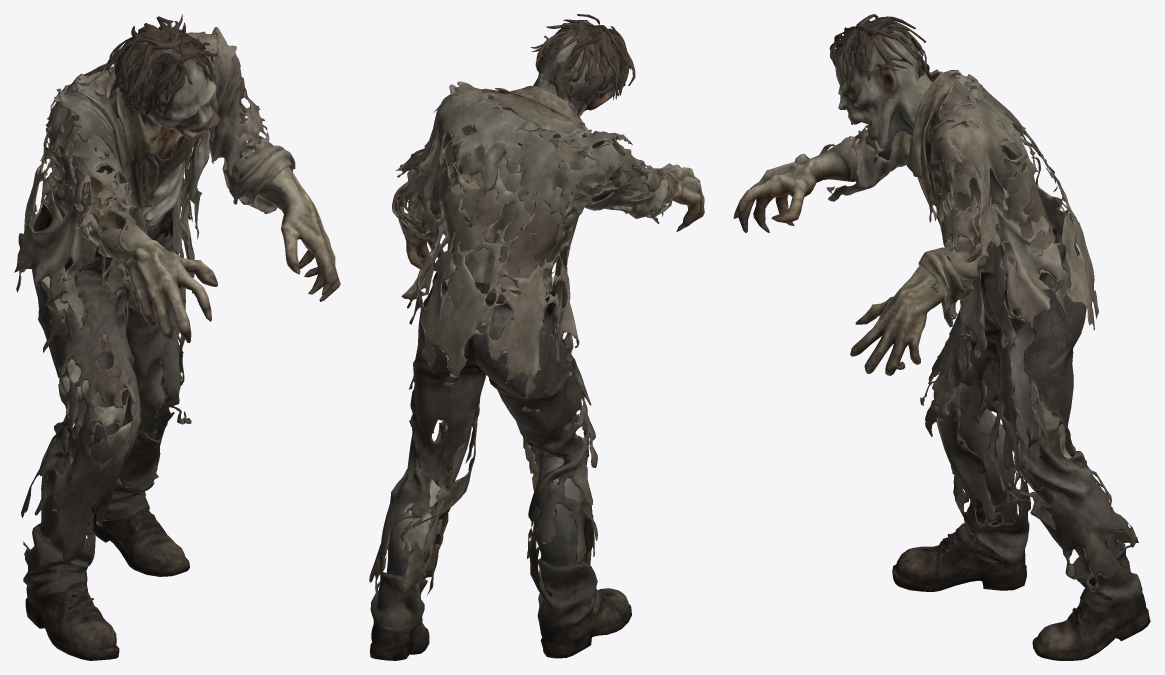
File: зомби.glb
3 renders of one model, left to right at view 1: azimuth 30°, elevation 25°; view 2: azimuth 150°, elevation 25°; view 3: azimuth 270°, elevation 25°, orthographic. The views are drawn at different scales.
Visible parts, largest first — view 1: geometry_0; view 2: geometry_0; view 3: geometry_0.
Part boxes in pixels (x1=…): geometry_0: x1=14, y1=14, x2=340, y2=660; geometry_0: x1=369, y1=14, x2=704, y2=660; geometry_0: x1=733, y1=14, x2=1150, y2=660.
Bounding box in the file's own units: 0.4345 × 1 × 0.6417.
Materials: 1 (1 with a texture image).
